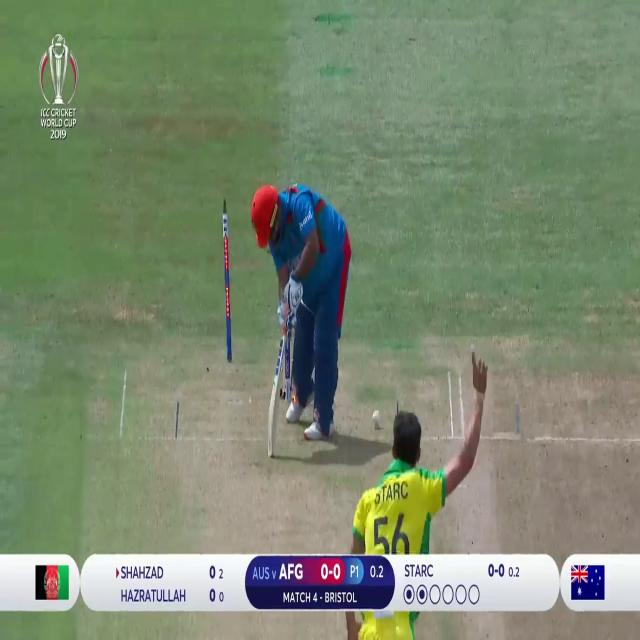ball: (368, 400, 386, 433)
